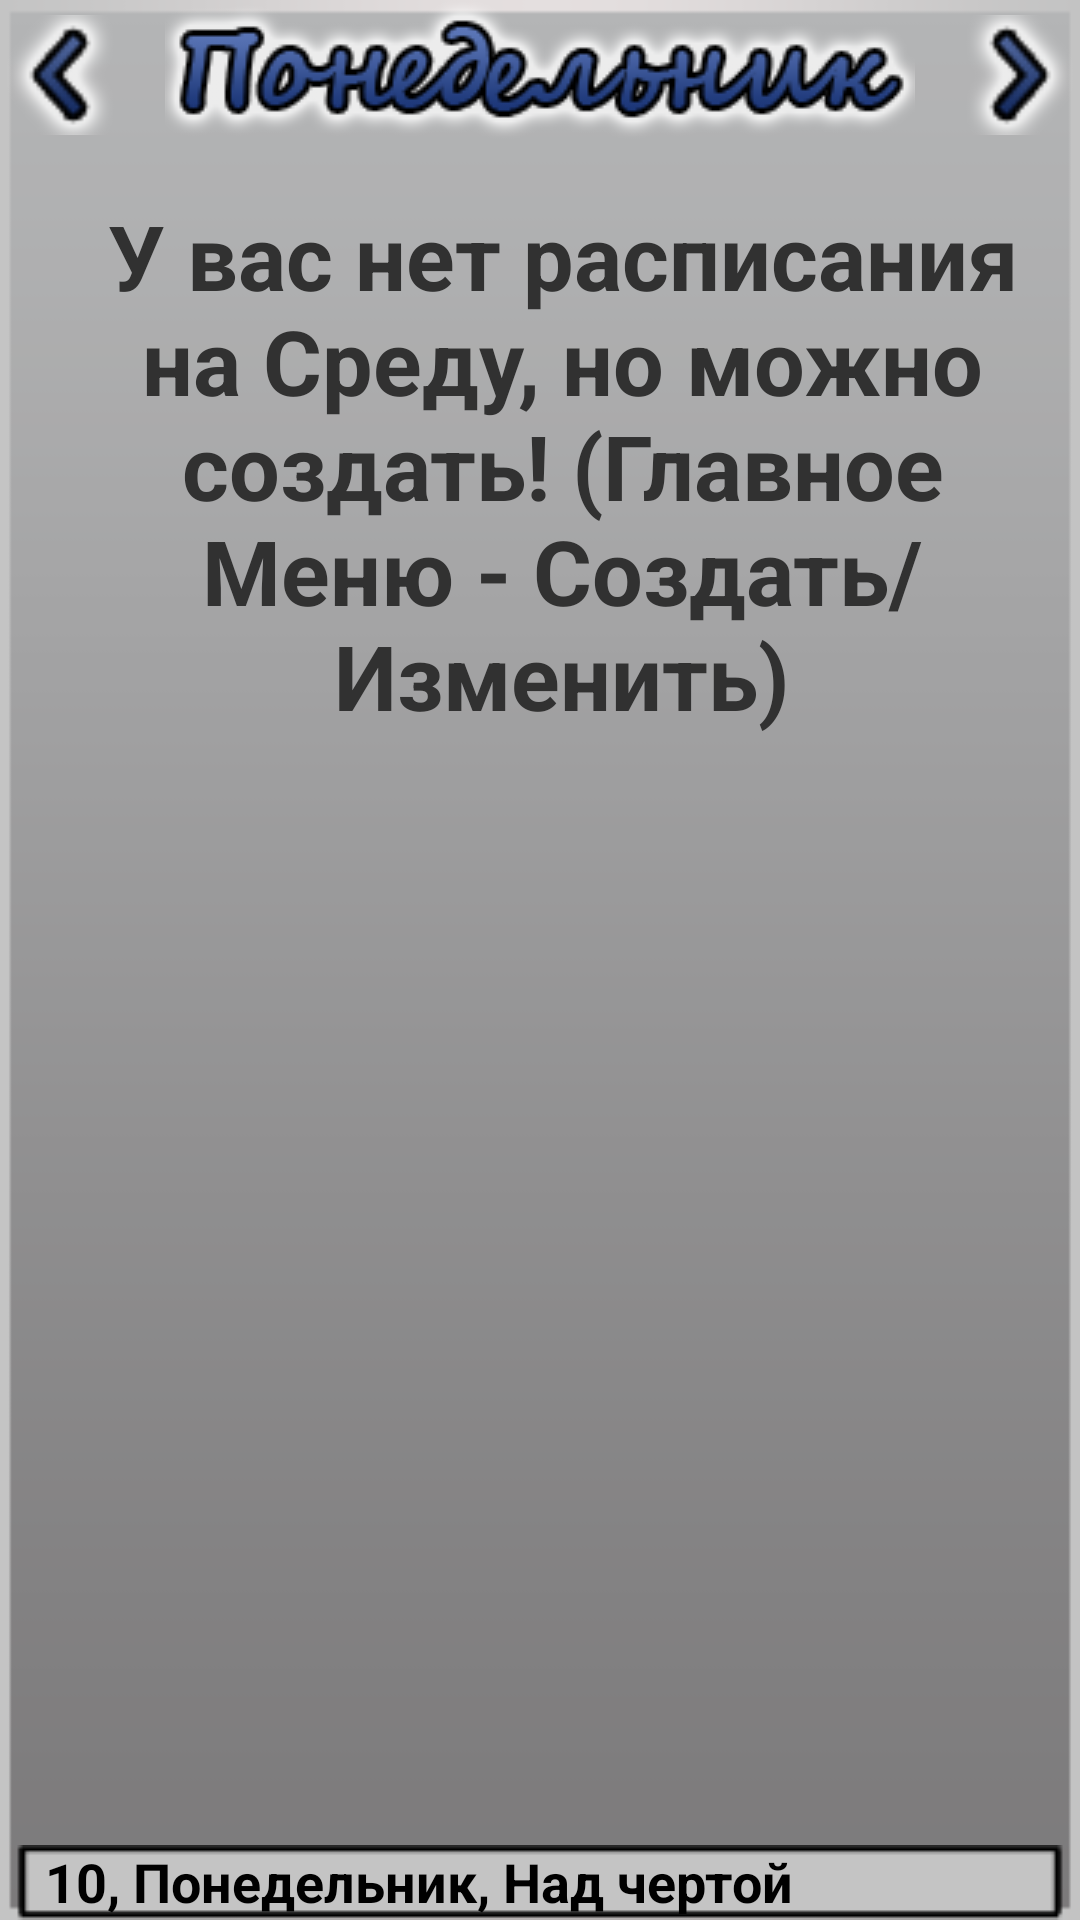

Icon click points for this 1080×1920 phone screenshot, format [x,y]:
show day last: [60,75]
show day next: [1020,75]
